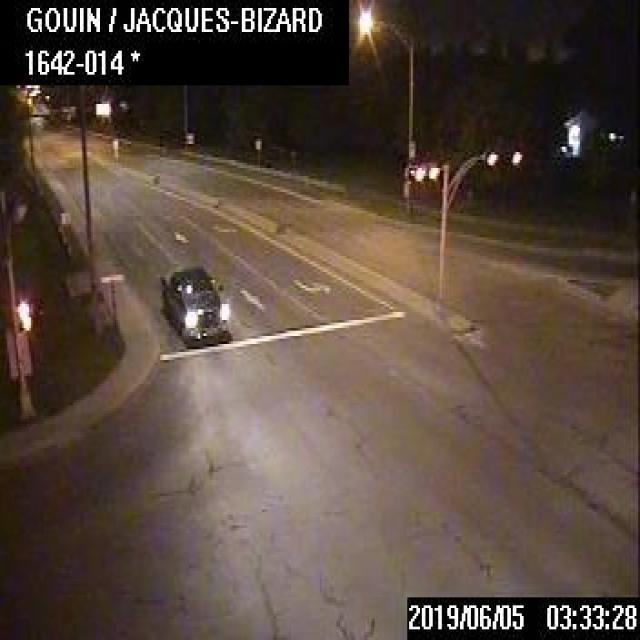vehicle: (158, 265, 228, 344)
